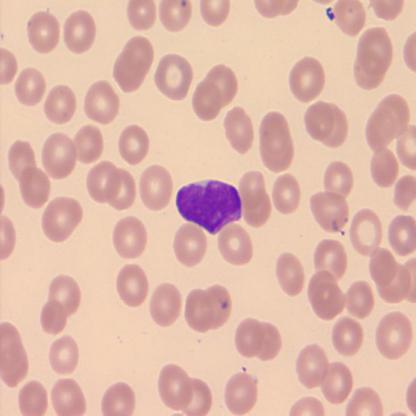Blast: (174, 174, 246, 238)
